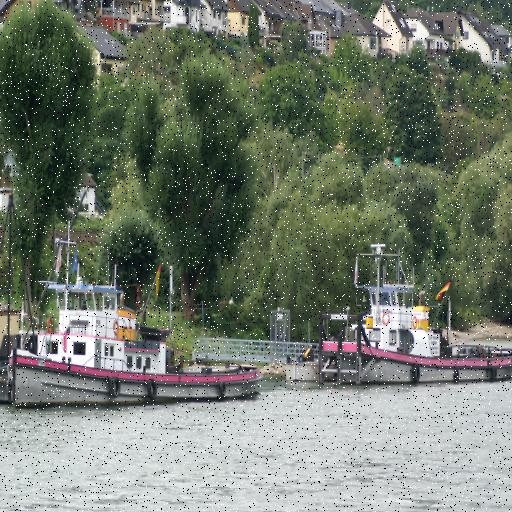tugboat: (6, 232, 262, 418), (310, 237, 512, 395)
